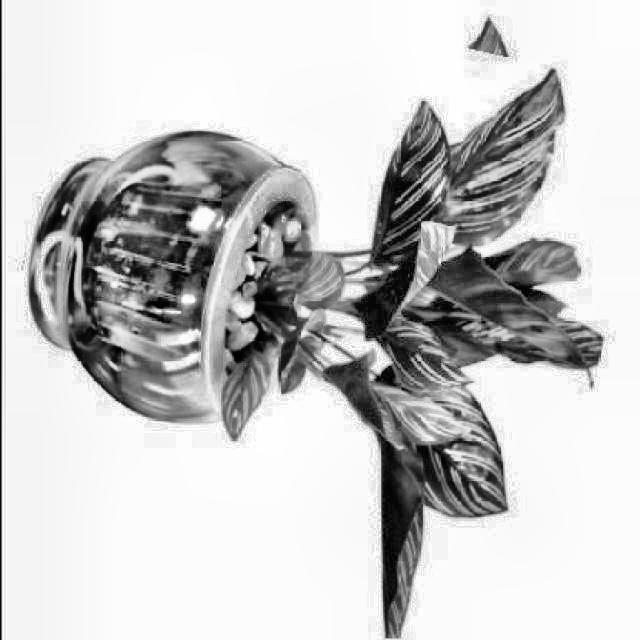plants: (1, 0, 627, 638)
